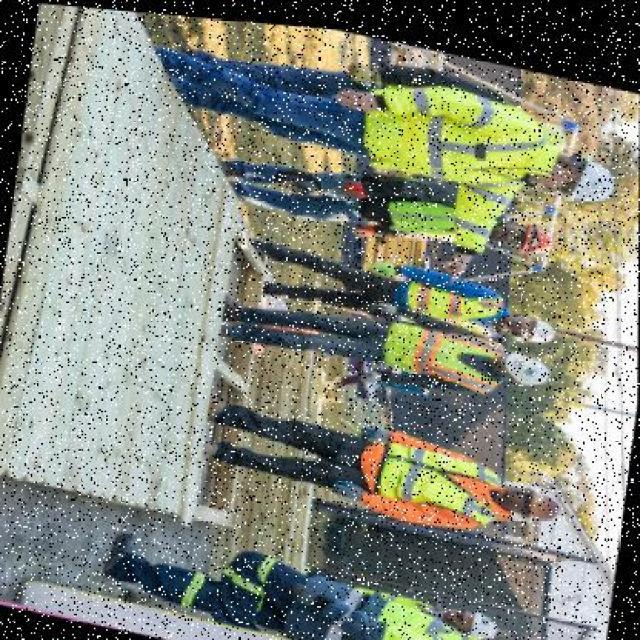helmet: (568, 138, 618, 198), (486, 205, 548, 249), (502, 335, 556, 383), (519, 472, 564, 522), (520, 295, 560, 349), (522, 628, 573, 639)
vest: (353, 63, 552, 197), (362, 422, 512, 524), (274, 574, 505, 638), (383, 312, 503, 384), (405, 268, 515, 330)
